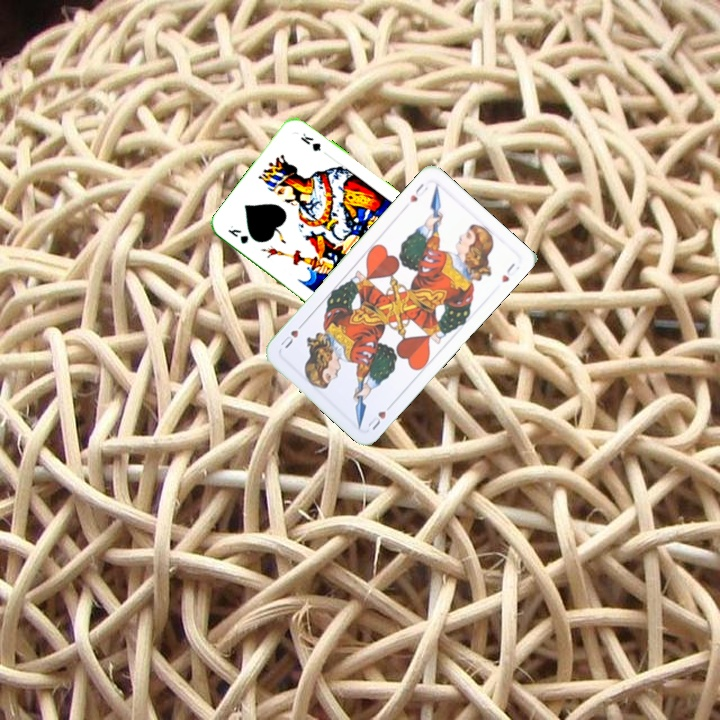GK: (224, 221, 251, 246)
HU: (362, 399, 396, 433), (406, 179, 431, 205)
